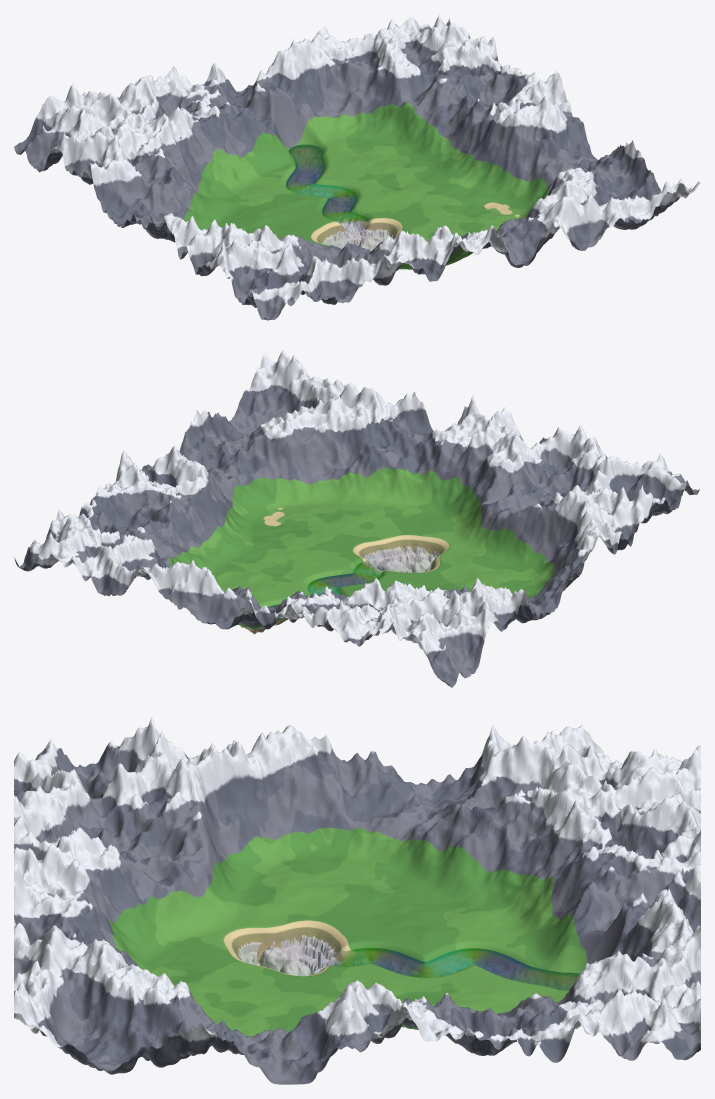
The model's file is World.glb.
The picture shows the model from 3 angles, top to bottom: view 1: azimuth 30°, elevation 25°; view 2: azimuth 150°, elevation 25°; view 3: azimuth 270°, elevation 25°; orthographic projection. The views are drawn at different scales.
Visible parts, largest first — view 1: Terrain, Water, SpawnZone_Stream, SpawnZone_Pond; view 2: Terrain, Water, SpawnZone_Pond; view 3: Terrain, Water, SpawnZone_Pond, SpawnZone_Stream.
Part boxes in pixels (bbox=[...]): Terrain: bbox=[14, 15, 700, 320]; Water: bbox=[286, 144, 396, 250]; SpawnZone_Stream: bbox=[290, 151, 359, 227]; SpawnZone_Pond: bbox=[322, 222, 393, 248]; Terrain: bbox=[14, 349, 699, 687]; Water: bbox=[238, 540, 442, 628]; SpawnZone_Pond: bbox=[361, 545, 439, 579]; Terrain: bbox=[14, 716, 700, 1084]; Water: bbox=[233, 928, 579, 990]; SpawnZone_Pond: bbox=[238, 935, 356, 974]; SpawnZone_Stream: bbox=[358, 955, 573, 989].
Bounding box in the file's own units: 300 × 79.67 × 300.
2 materials, 1 textured.
